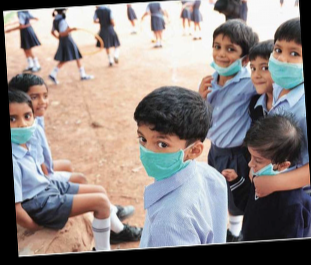mask_weared_incorrect: (209, 41, 242, 76), (11, 110, 38, 144), (247, 152, 275, 179)
with_mask: (137, 125, 186, 181), (267, 41, 303, 90)
without_mask: (250, 58, 271, 95), (29, 89, 50, 118)
